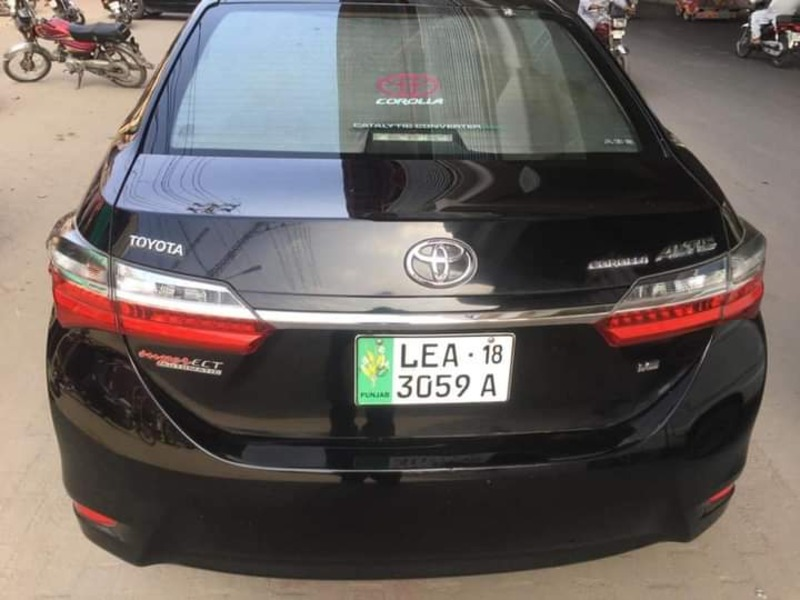License Plate: (350, 327, 516, 411)
